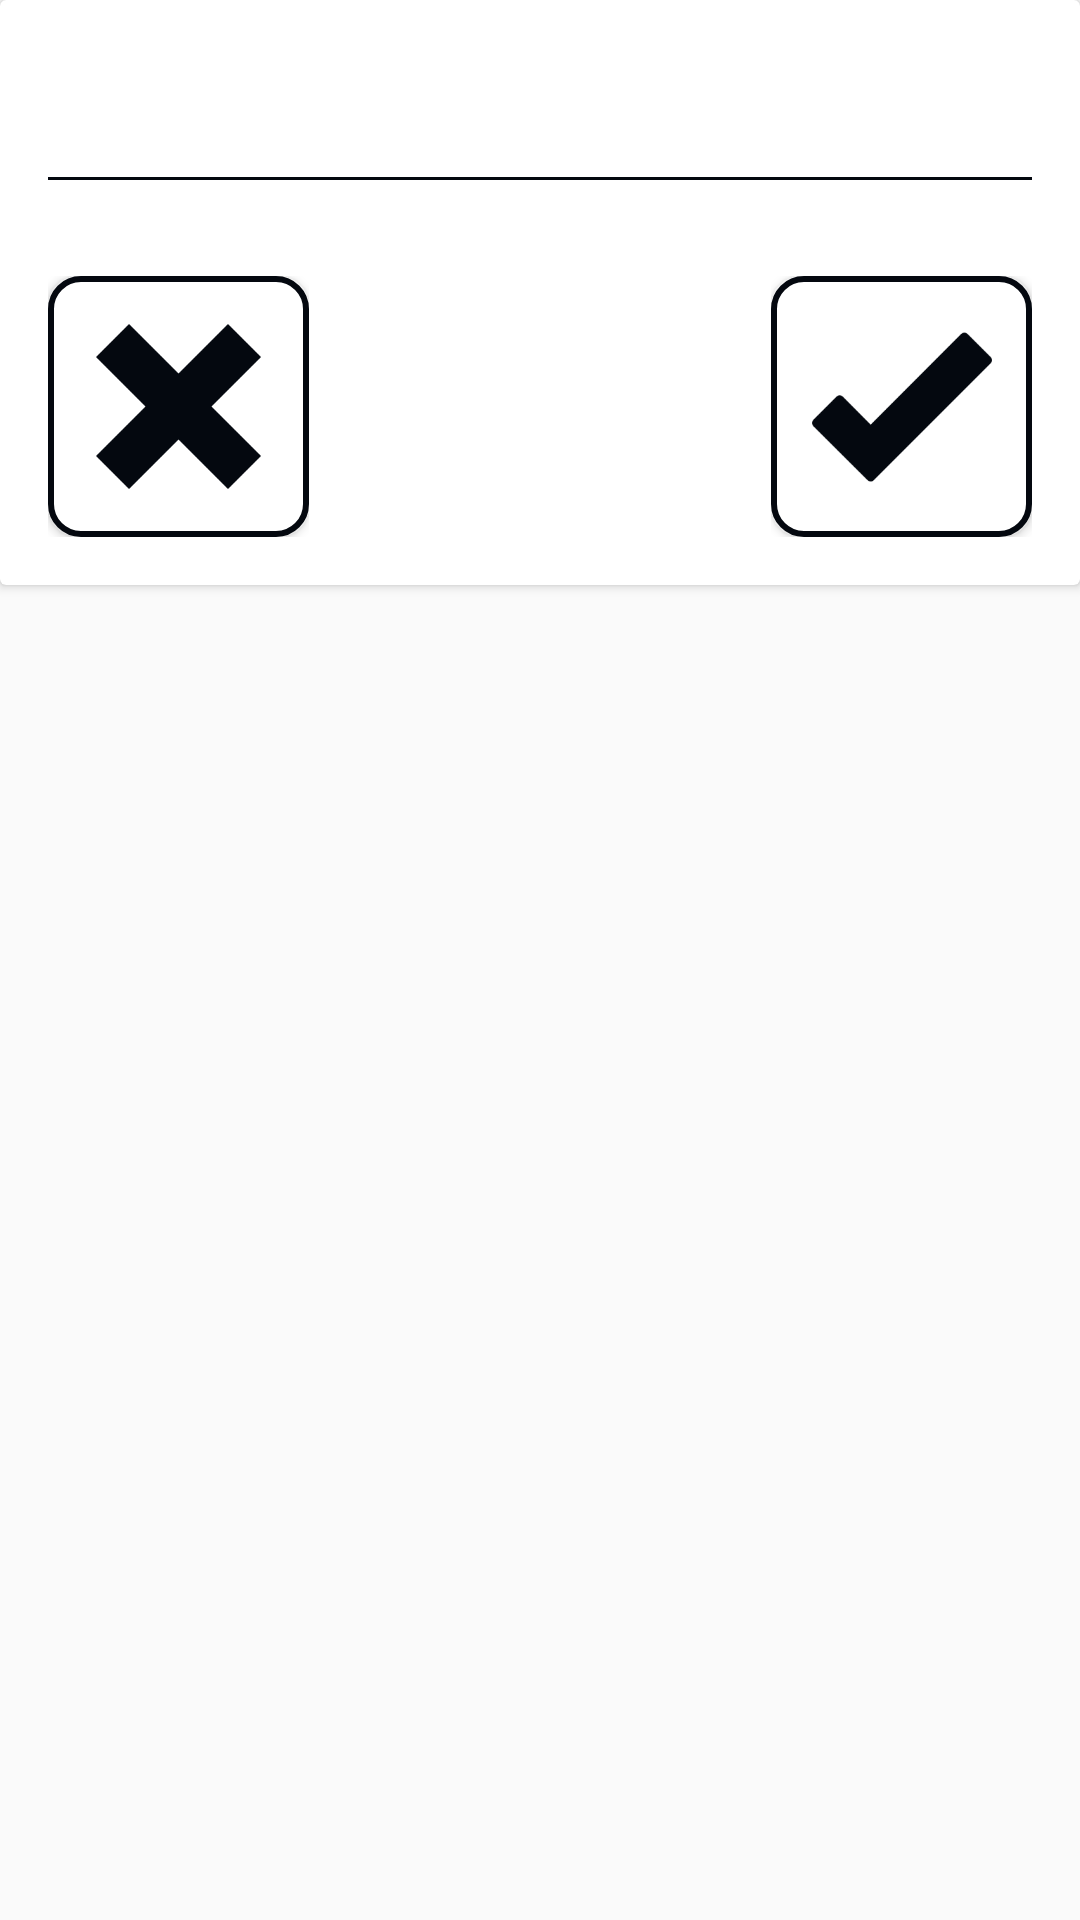

Icon click points for this 1080x1920 phone screenshot, format point (x, y):
correct: point (902, 407)
wrong: point (178, 406)
